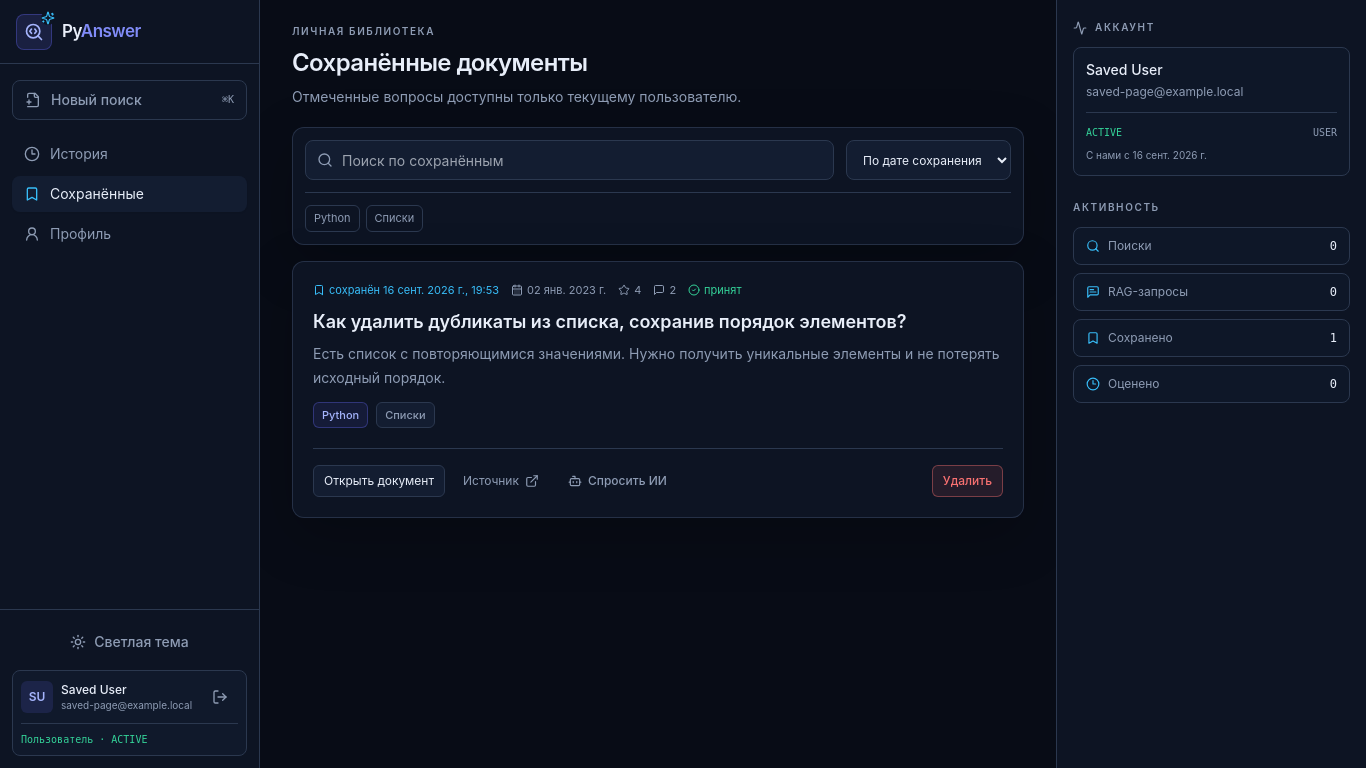
SavedPage › удаляет документ и обновляет страницу без reload
The width and height of the screenshot is (1366, 768).
Expected: the link "Как удалить дубликаты из списка, сохранив порядок элементов?" is shown, [313, 311, 907, 332]
Click the button "Удалить".
click(967, 481)  # box [932, 465, 1003, 497]
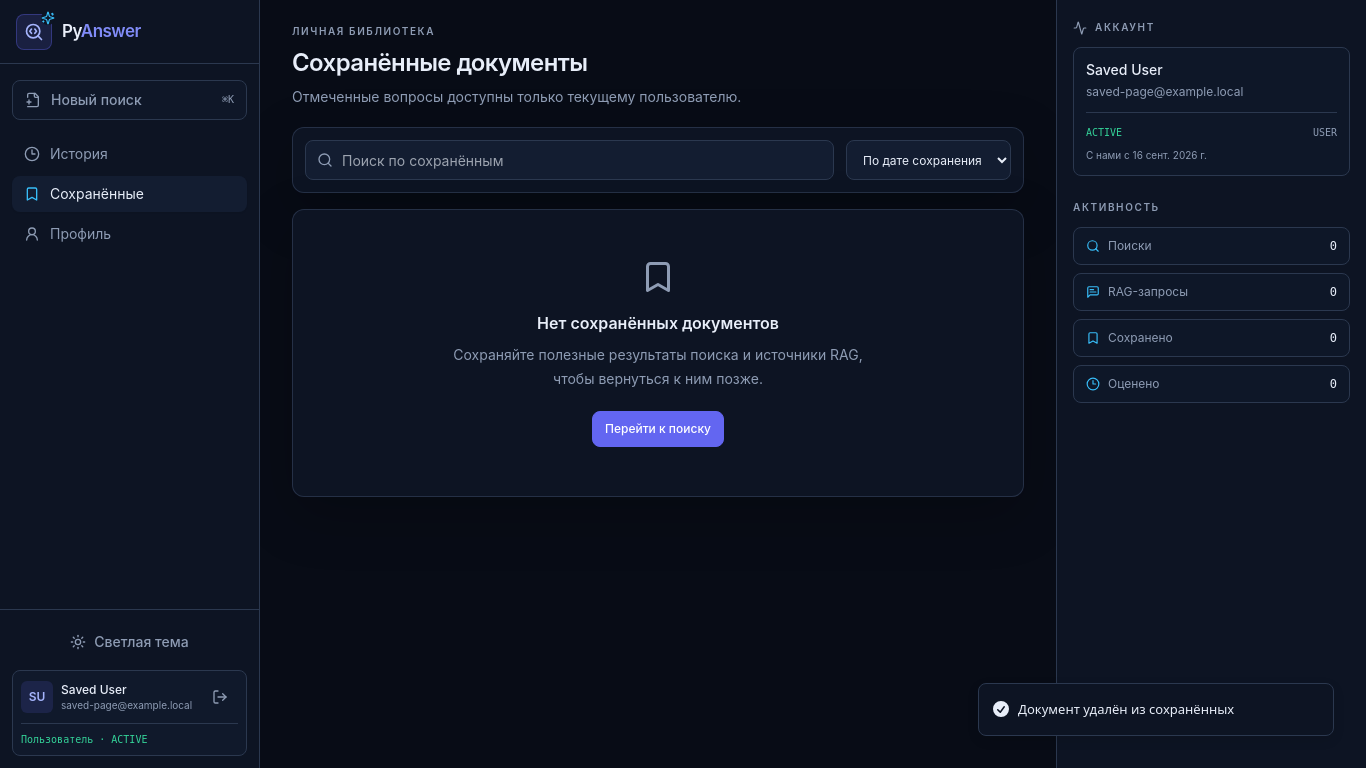
Expected: the heading "Нет сохранённых документов" is shown, [537, 313, 779, 333]
